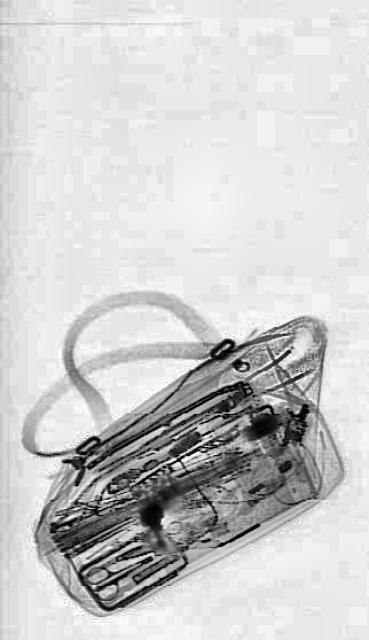Scissors: (84, 535, 154, 609)
